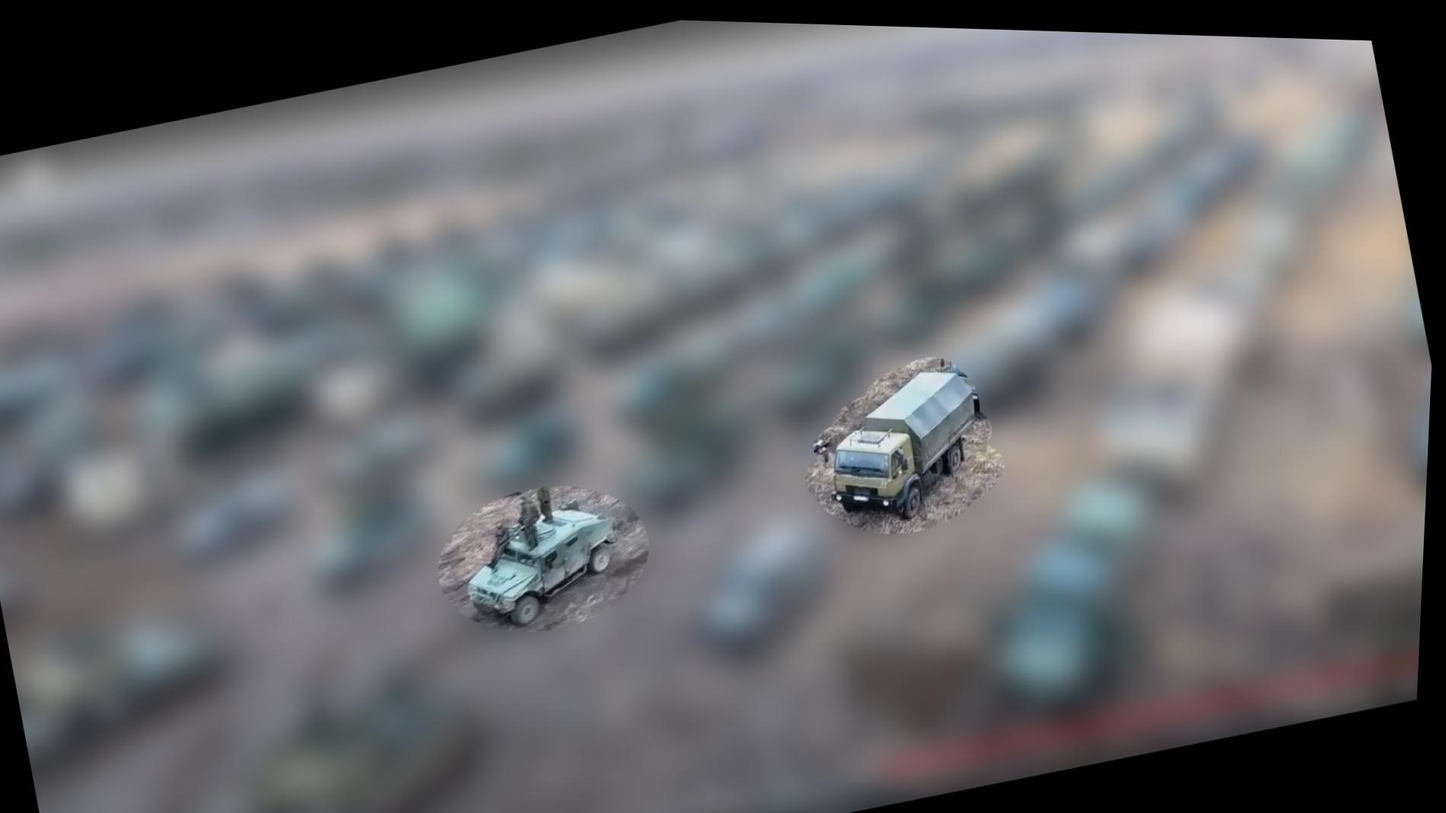armored_car: (447, 488, 635, 644)
truck: (805, 357, 1003, 538)
